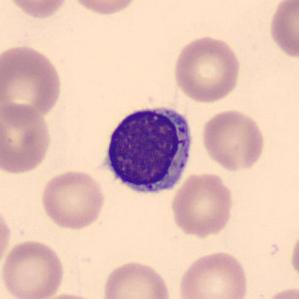Lymphocyte: (94, 99, 198, 200)
RBC: (0, 42, 65, 125), (171, 33, 242, 104), (169, 170, 235, 239), (200, 107, 268, 173), (38, 168, 106, 231), (0, 237, 66, 298), (0, 101, 53, 176), (175, 248, 250, 299), (100, 258, 172, 299), (266, 0, 298, 62), (3, 0, 72, 21), (67, 0, 142, 17), (0, 202, 13, 271), (287, 225, 299, 286), (258, 284, 299, 299), (35, 291, 106, 299)
